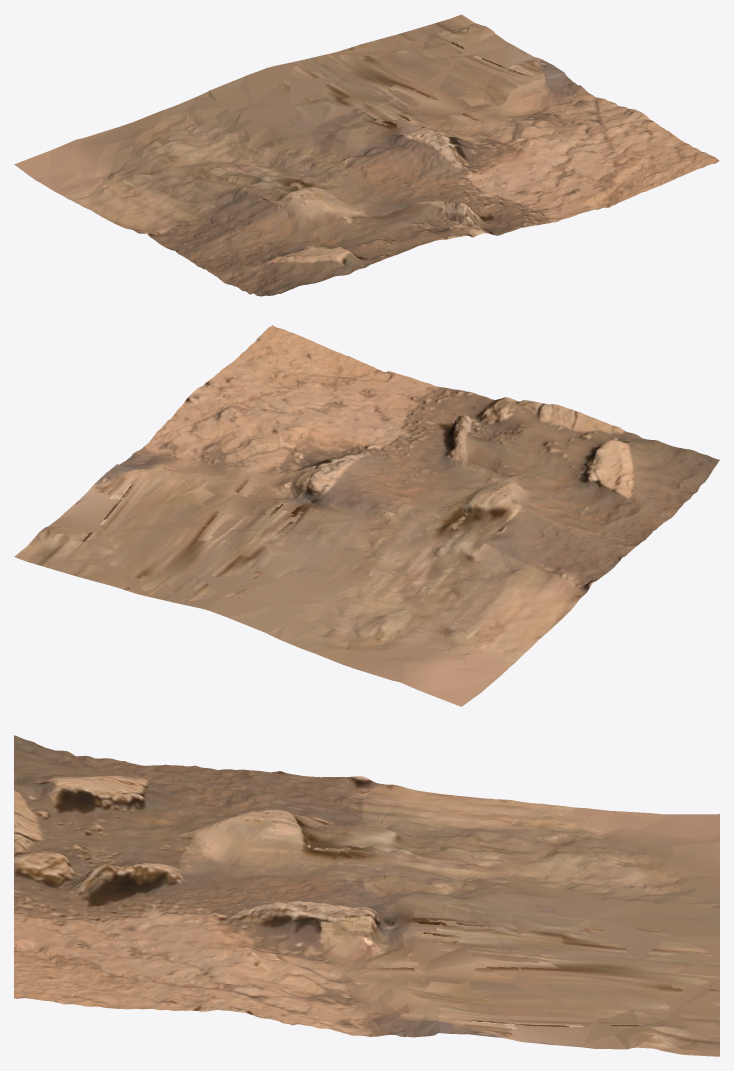
3 views of the same model, one above another, from view 1: azimuth 30°, elevation 25°; view 2: azimuth 150°, elevation 25°; view 3: azimuth 270°, elevation 25° (orthographic). The views are drawn at different scales.
Size of the model in its own units: 1.04 by 0.1874 by 1.04.
Materials: 2 (2 with a texture image).
